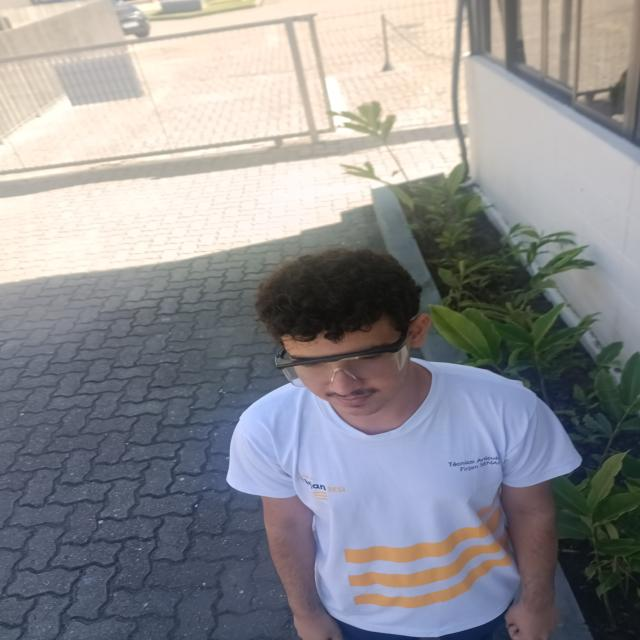oculos-epi: (275, 335, 408, 388)
